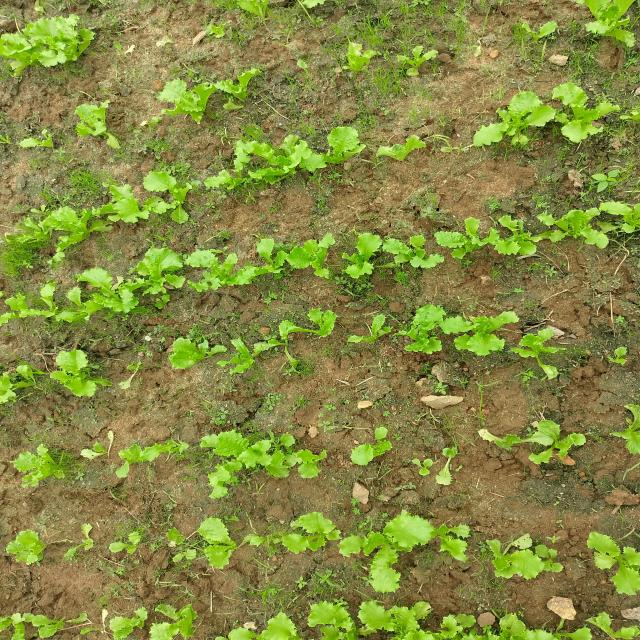Lettuce: (202, 431, 328, 496), (353, 513, 467, 581), (146, 68, 275, 124), (491, 405, 592, 475), (471, 92, 560, 168), (76, 426, 184, 487), (86, 172, 196, 230), (182, 248, 274, 308), (3, 18, 92, 78), (253, 507, 346, 564), (443, 214, 555, 260), (344, 225, 438, 278), (239, 320, 316, 384), (86, 263, 174, 316), (489, 526, 567, 583), (546, 89, 632, 138), (558, 202, 638, 254), (214, 141, 305, 186), (279, 127, 372, 166), (164, 331, 228, 385), (104, 606, 205, 640), (23, 208, 89, 260), (568, 0, 640, 47), (0, 284, 79, 325), (180, 519, 246, 567), (311, 598, 390, 638), (273, 223, 323, 286), (219, 609, 317, 640), (582, 530, 640, 582), (514, 326, 572, 378), (47, 107, 139, 139), (49, 347, 102, 402), (372, 598, 440, 640), (455, 312, 515, 355), (230, 0, 331, 24), (12, 446, 68, 488), (404, 302, 454, 347), (326, 34, 377, 78), (416, 438, 457, 491), (3, 526, 51, 570), (346, 427, 396, 469), (1, 362, 43, 412), (368, 131, 430, 163), (0, 611, 66, 640), (395, 39, 436, 85), (304, 306, 339, 341), (616, 414, 640, 458)
